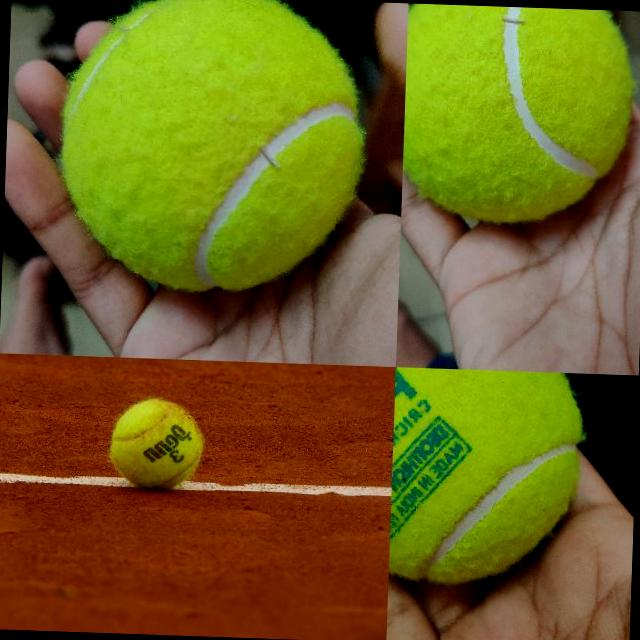Tennis Ball: (58, 0, 368, 296), (402, 3, 634, 226), (389, 367, 586, 588), (110, 397, 204, 490)
